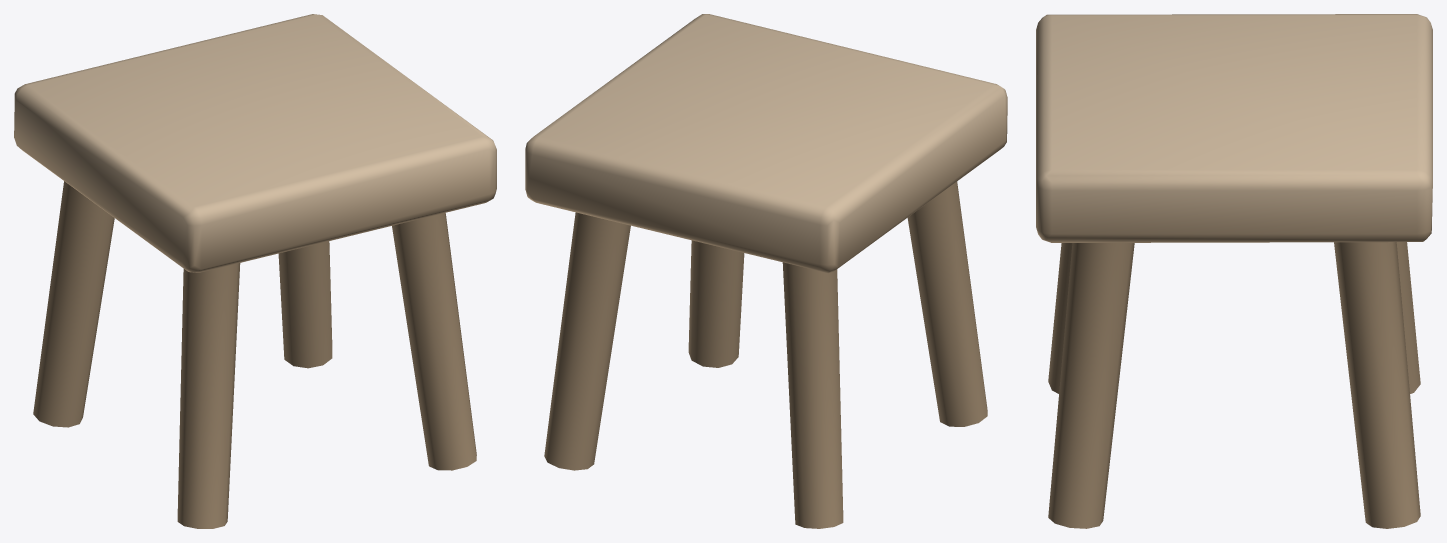
File: log_stool.glb
3 renders of one model, left to right at view 1: azimuth 30°, elevation 25°; view 2: azimuth 150°, elevation 25°; view 3: azimuth 270°, elevation 25°, orthographic. The views are drawn at different scales.
Visible parts, largest first — view 1: log_stool; view 2: log_stool; view 3: log_stool.
Boxes of the visible parts, x1,y1,x2,y2 form: log_stool: [14, 14, 496, 528]; log_stool: [525, 14, 1007, 528]; log_stool: [1036, 14, 1432, 528].
Bounding box in the file's own units: 0.5 × 0.5047 × 0.5.
